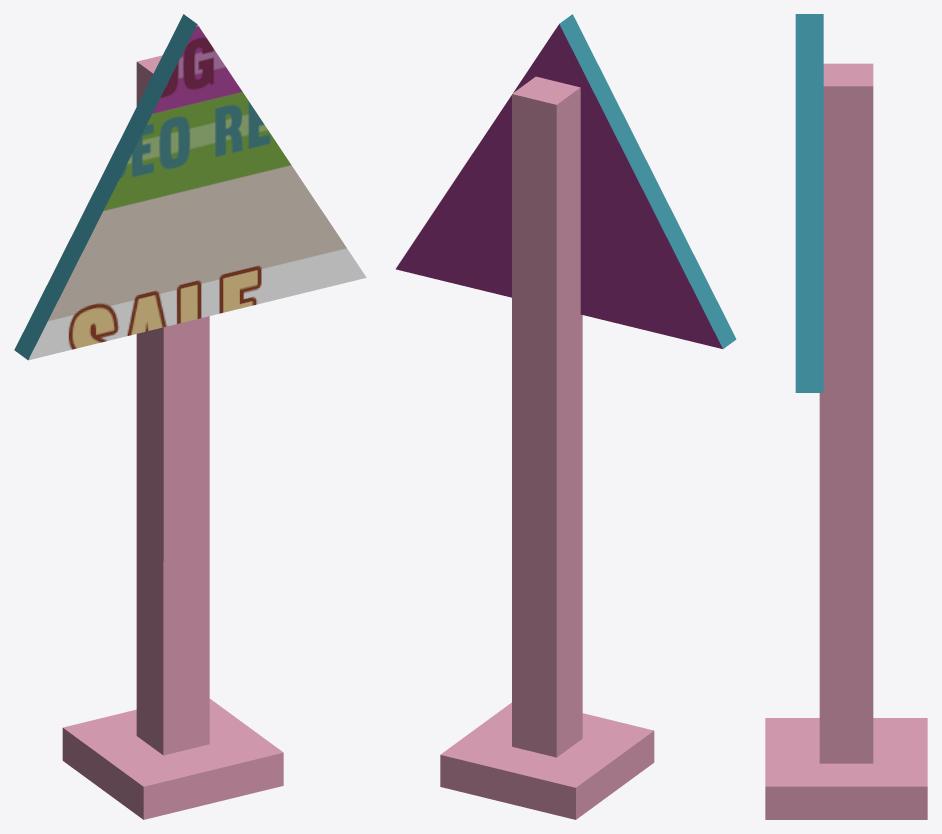
The model's file is Prop_Warning_Sign.fbx.
The picture shows the model from 3 angles, left to right: view 1: azimuth 30°, elevation 25°; view 2: azimuth 150°, elevation 25°; view 3: azimuth 270°, elevation 25°; orthographic projection. The views are drawn at different scales.
Visible parts, largest first — view 1: Prop_Warning_Sign; view 2: Prop_Warning_Sign; view 3: Prop_Warning_Sign.
Boxes of the visible parts, x1,y1,x2,y2 form: Prop_Warning_Sign: (14, 14, 366, 819); Prop_Warning_Sign: (396, 14, 736, 819); Prop_Warning_Sign: (765, 14, 927, 819).
Size of the model in its own units: 1.41 by 3.06 by 0.5853.
